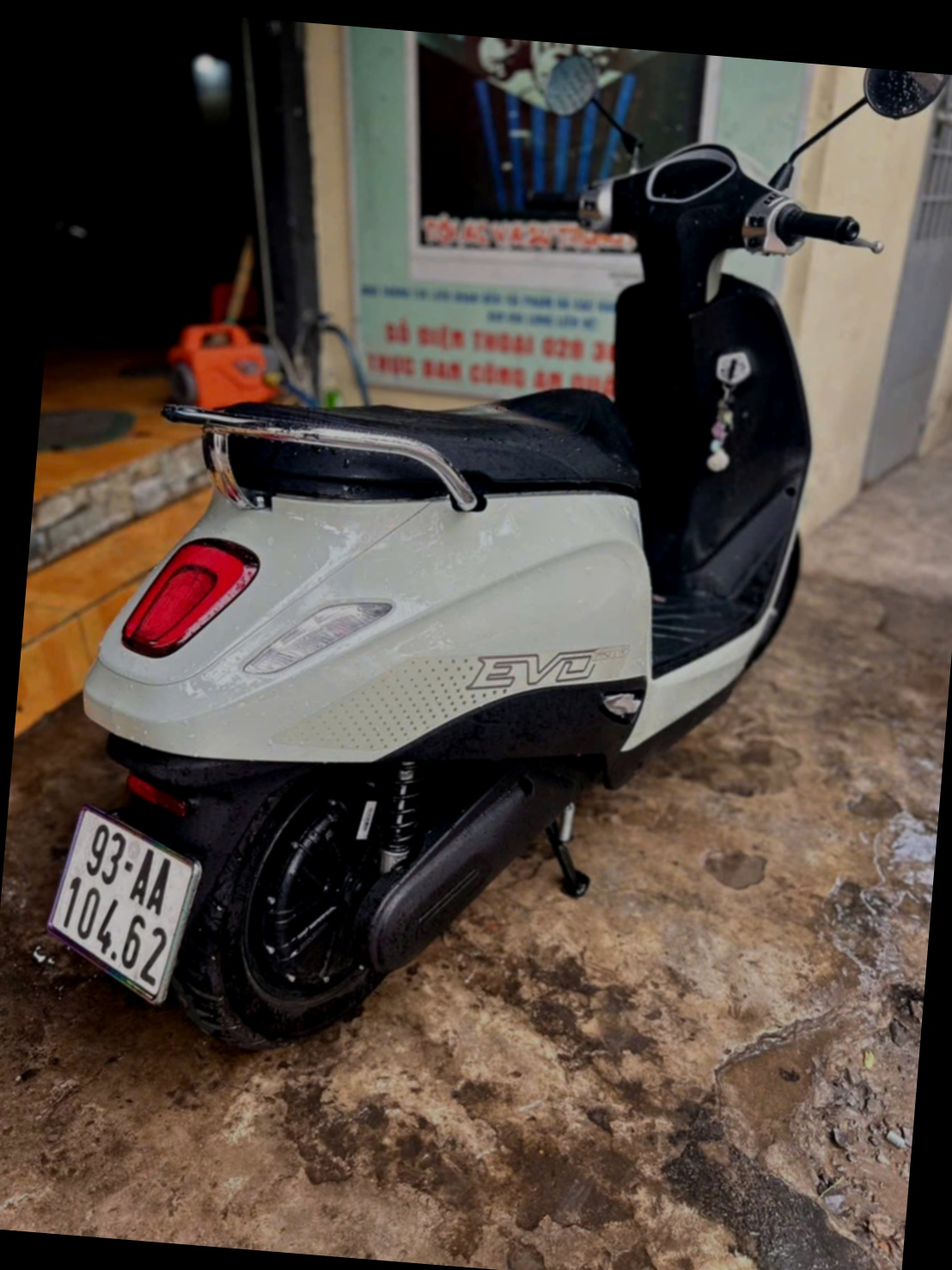Bien-so: (0, 818, 167, 1032)
